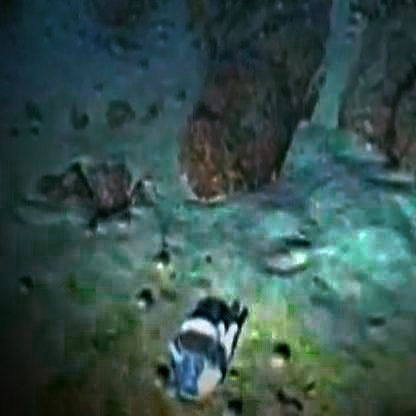misc: (157, 303, 245, 401)
